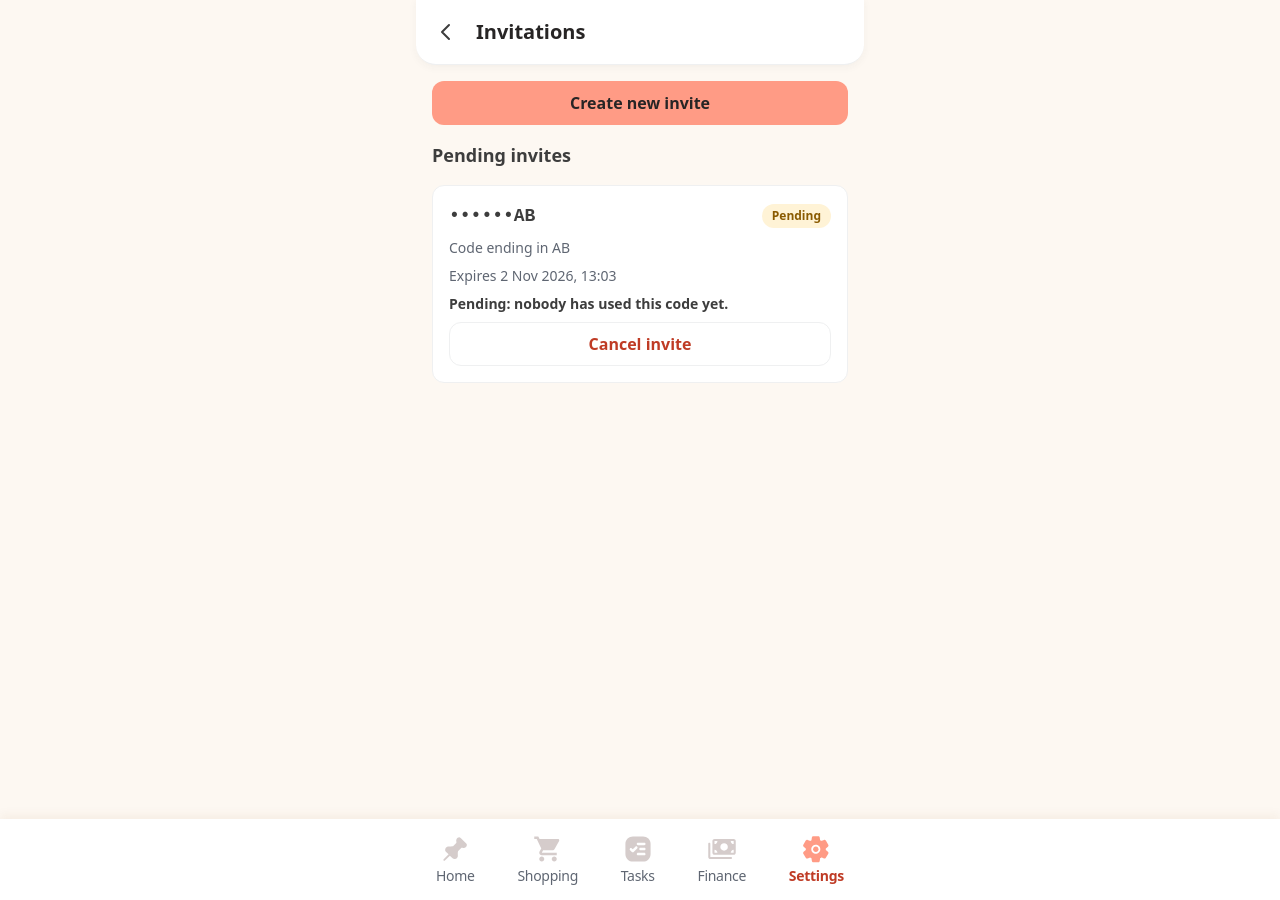
Test case: invitations › cancelling an invite explains the effect and then revokes it
Step 1. Click the button "Cancel invite" → (640, 344), box [449,322,831,366]
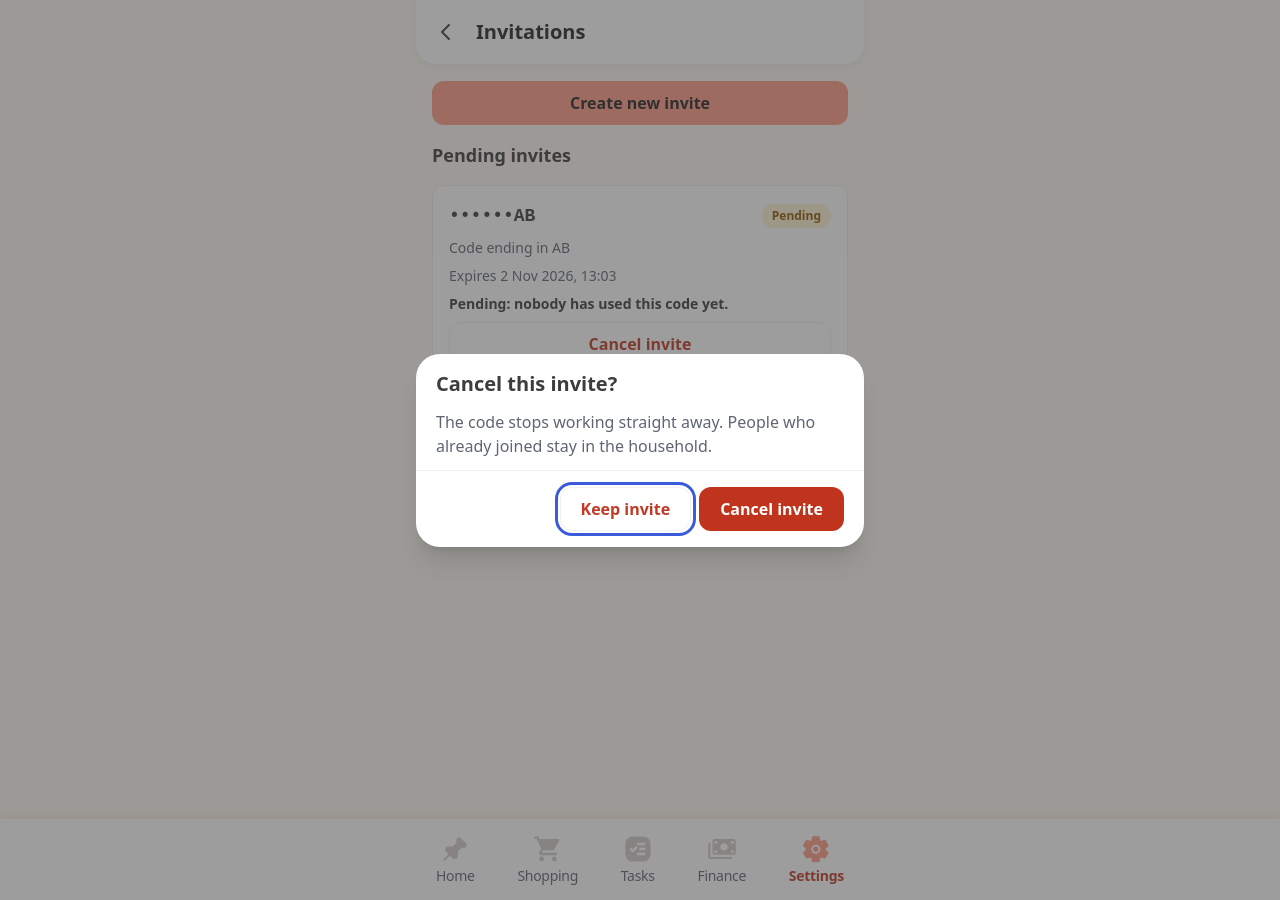
Expected: the dialog "Cancel this invite?" shows "stops working straight away", [436,410,815,456]
Step 2. Click the button "Cancel invite" → (772, 508), box [699,486,844,530]
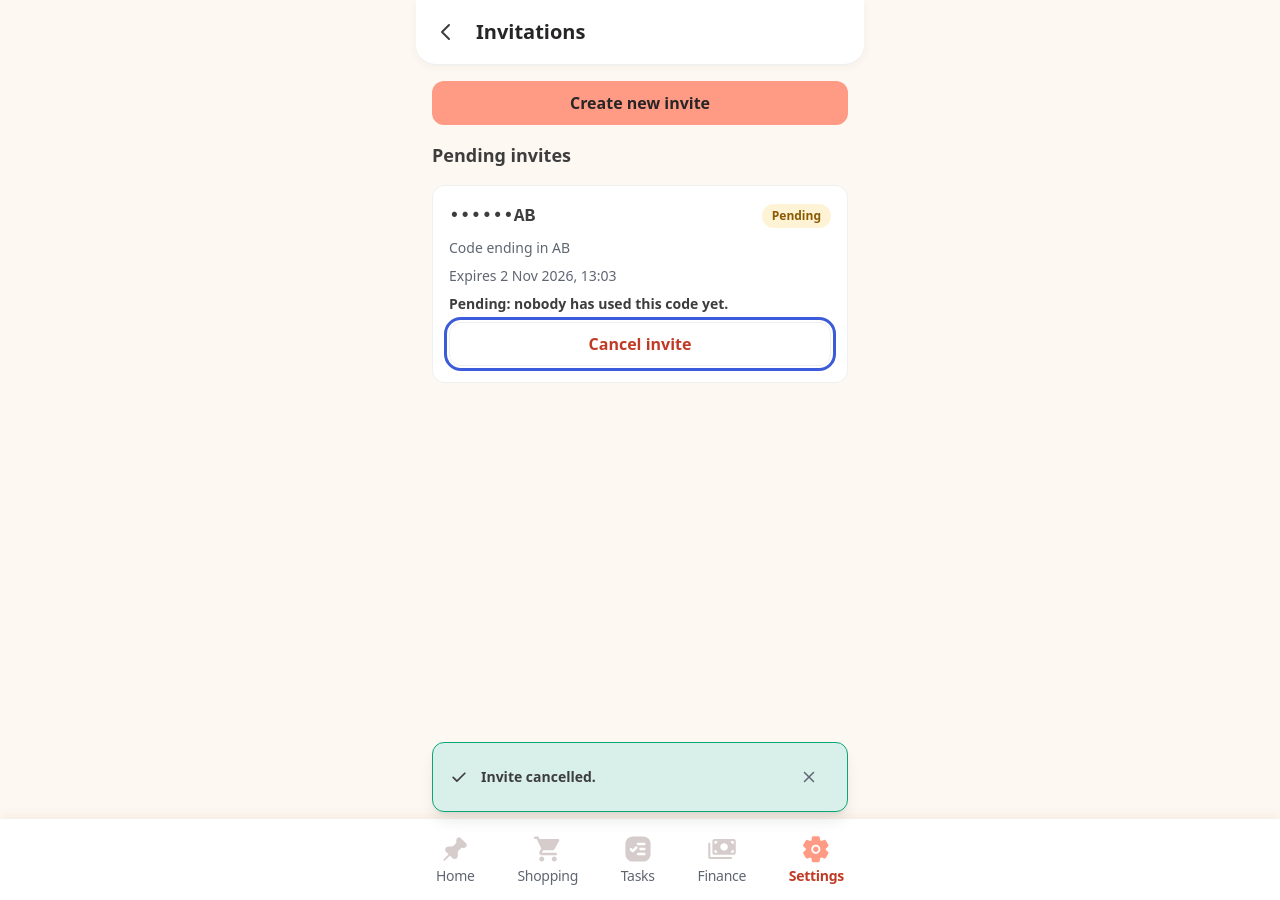
Expected: the text "Invite cancelled." is shown, [481,767,596,786]
